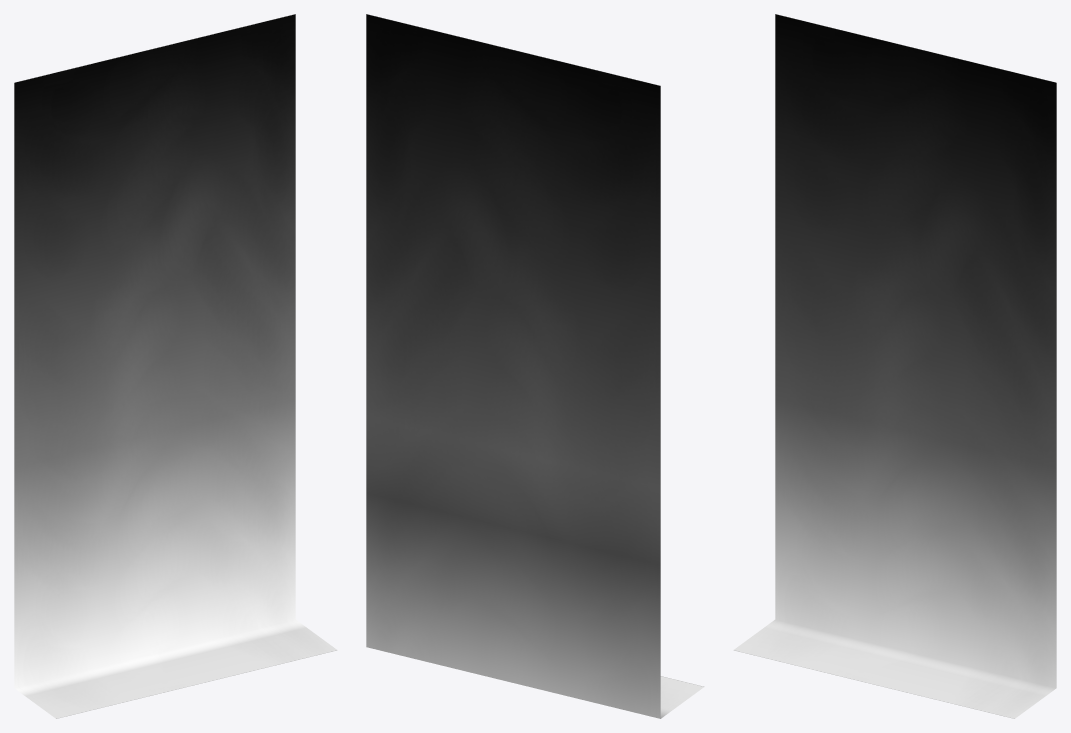
The model's file is BC_labor.FBX.
3 views of the same model, side by side, from view 1: azimuth 30°, elevation 25°; view 2: azimuth 150°, elevation 25°; view 3: azimuth 330°, elevation 25° (orthographic). The views are drawn at different scales.
Parts seen in each view (by area): view 1: BC003labor; view 2: BC003labor; view 3: BC003labor.
Part boxes in pixels (x1,y1,x2,y2): BC003labor: [14, 14, 337, 718]; BC003labor: [366, 14, 704, 718]; BC003labor: [733, 14, 1056, 718].
Bounding box in the file's own units: 3.27 × 0.8453 × 6.71.
Materials: 1 (1 with a texture image).
